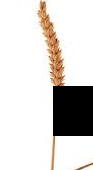wheat: (32, 1, 66, 90)
